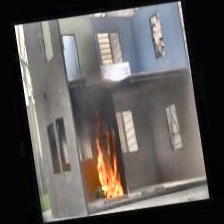fire: (85, 122, 127, 204)
